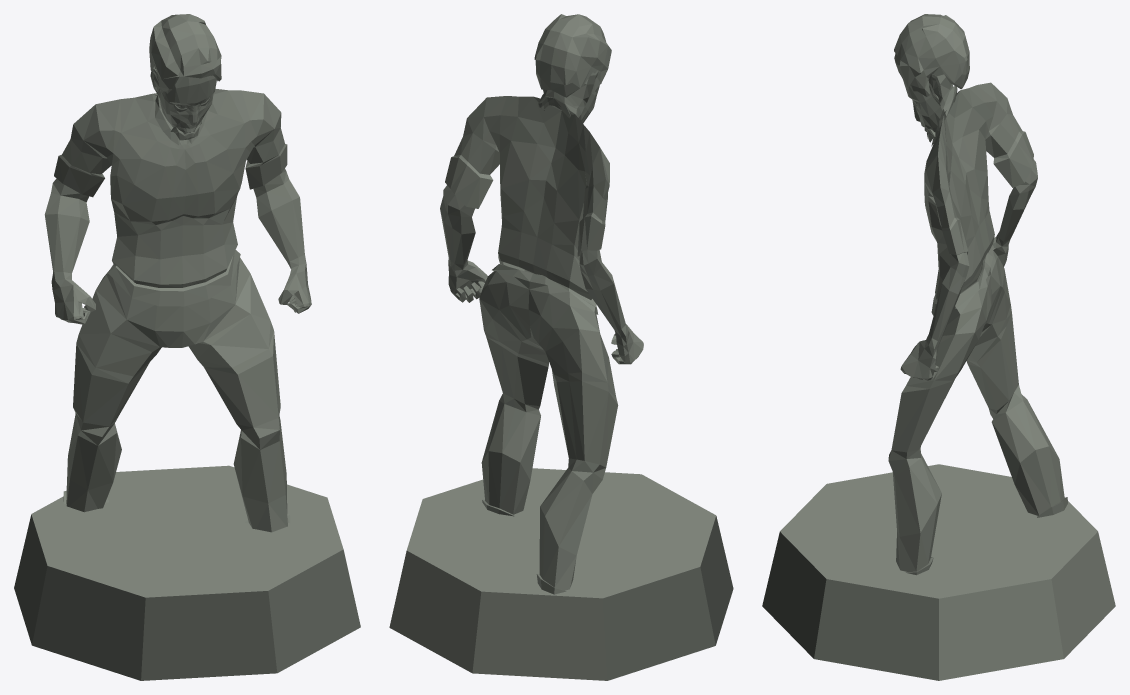
3 renders of one model, left to right at view 1: azimuth 30°, elevation 25°; view 2: azimuth 150°, elevation 25°; view 3: azimuth 270°, elevation 25°, orthographic.
Parts seen in each view (by area): view 1: 6aca5b4e30698e7731f1cef234d540465884224c3f7a64c212ea77d4b31c; view 2: 6aca5b4e30698e7731f1cef234d540465884224c3f7a64c212ea77d4b31c; view 3: 6aca5b4e30698e7731f1cef234d540465884224c3f7a64c212ea77d4b31c.
Boxes of the visible parts, x1=… form: 6aca5b4e30698e7731f1cef234d540465884224c3f7a64c212ea77d4b31c: x1=14, y1=14, x2=360, y2=680; 6aca5b4e30698e7731f1cef234d540465884224c3f7a64c212ea77d4b31c: x1=389, y1=14, x2=733, y2=680; 6aca5b4e30698e7731f1cef234d540465884224c3f7a64c212ea77d4b31c: x1=762, y1=14, x2=1115, y2=680.
Bounding box in the file's own units: 1.2 × 2.19 × 1.2.
Materials: 2 (1 with a texture image).
